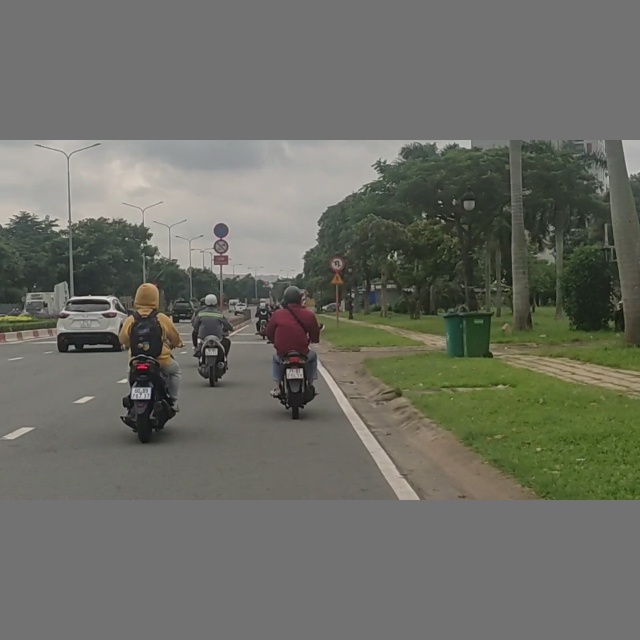P.111: (214, 239, 229, 254)
P.124a*: (329, 256, 345, 272)
P.130: (215, 223, 229, 238)
W.224: (330, 272, 345, 284)
